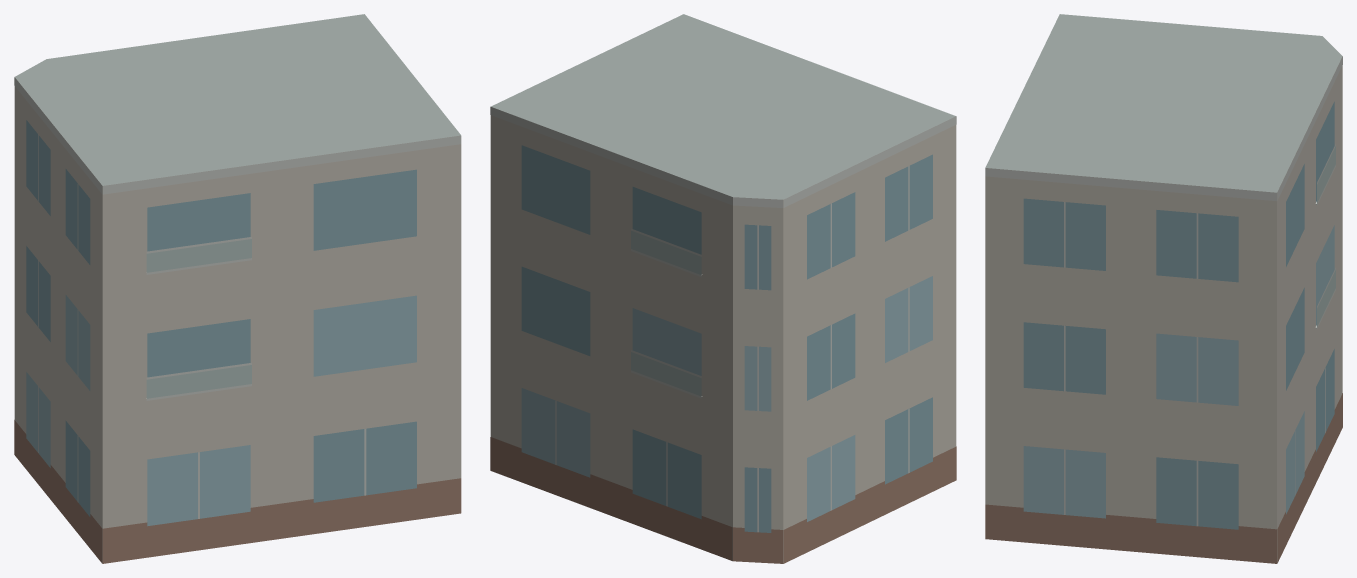
The model's file is survey-upis-32818114.glb.
3 renders of one model, left to right at view 1: azimuth 30°, elevation 25°; view 2: azimuth 150°, elevation 25°; view 3: azimuth 270°, elevation 25°, orthographic. The views are drawn at different scales.
Parts seen in each view (by area): view 1: survey-upis-32818114.tmp; view 2: survey-upis-32818114.tmp; view 3: survey-upis-32818114.tmp.
Boxes of the visible parts, <box> form: survey-upis-32818114.tmp: <box>14,14,461,563</box>; survey-upis-32818114.tmp: <box>490,14,956,563</box>; survey-upis-32818114.tmp: <box>985,14,1342,563</box>.
Size of the model in its own units: 10.95 by 10.6 by 9.26.
